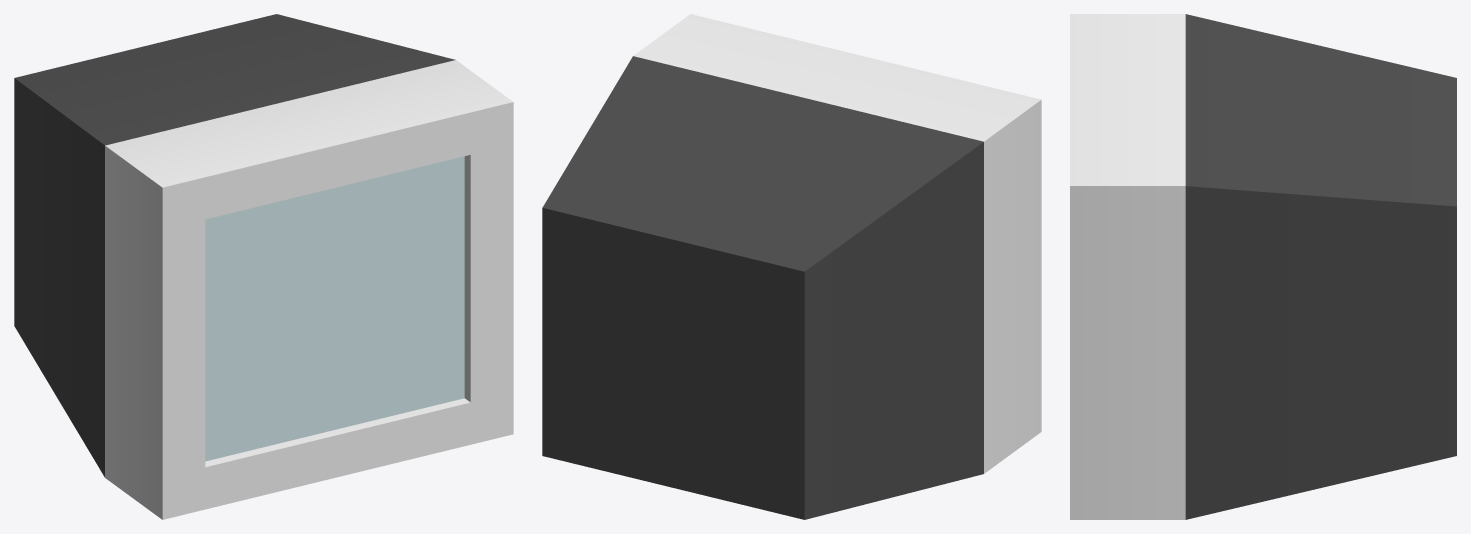
The model's file is Itr_Obj_Monitor_CRT_Screen_On_05.FBX.
The picture shows the model from 3 angles, left to right: view 1: azimuth 30°, elevation 25°; view 2: azimuth 150°, elevation 25°; view 3: azimuth 270°, elevation 25°; orthographic projection.
Parts seen in each view (by area): view 1: Itr_Obj_Monitor_CRT_Screen_On_05; view 2: Itr_Obj_Monitor_CRT_Screen_On_05; view 3: Itr_Obj_Monitor_CRT_Screen_On_05.
Boxes of the visible parts, x1,y1,x2,y2 form: Itr_Obj_Monitor_CRT_Screen_On_05: (14, 14, 513, 519); Itr_Obj_Monitor_CRT_Screen_On_05: (542, 14, 1041, 519); Itr_Obj_Monitor_CRT_Screen_On_05: (1070, 14, 1456, 519).
Bounding box in the file's own units: 20.38 × 18.44 × 19.36.
